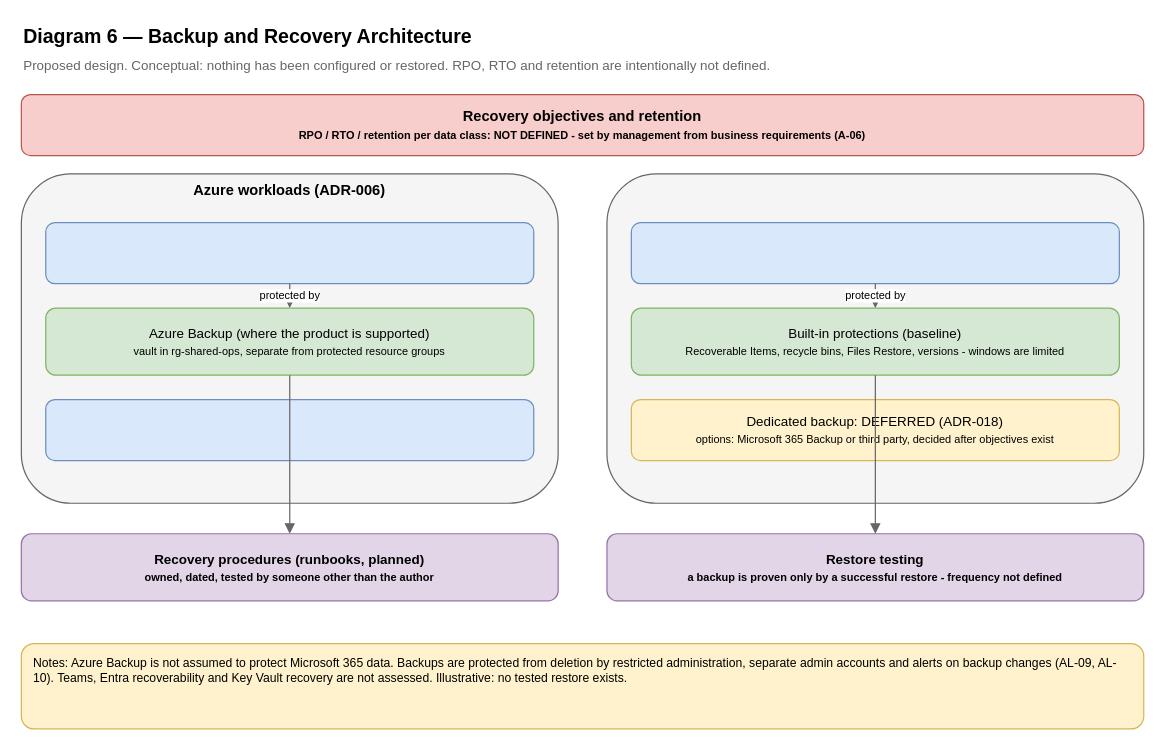
The diagram is 1165 pixels wide and 750 high, and some of its shapes have lost their labels. Each missing label, with the box of its shape:
Application data stores product not selected (ADR-004): (45, 221, 534, 284)
Exchange Online, SharePoint, OneDrive: (630, 221, 1119, 284)
Infrastructure definitions in Git rebuild of resources (concept, ADR-007): (45, 398, 534, 461)
Microsoft 365 data (ADR-006, ADR-018): (606, 173, 1144, 503)
